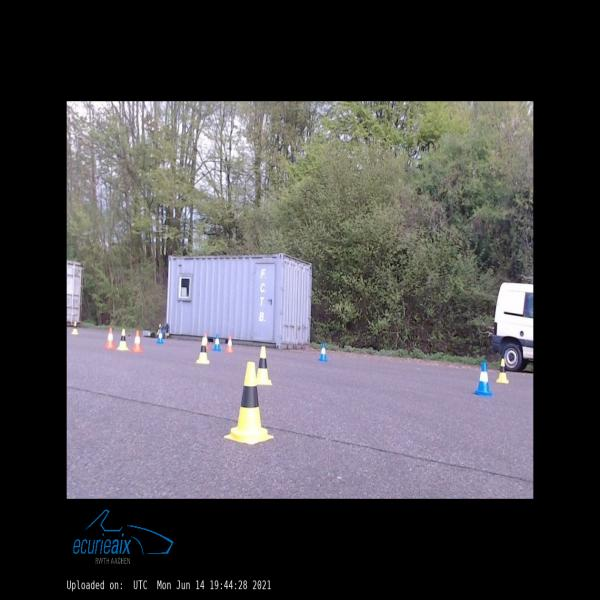blue_cone: (473, 362, 492, 396), (318, 342, 328, 362), (213, 334, 221, 351), (156, 329, 164, 343)
orange_cone: (131, 330, 143, 352), (105, 328, 115, 348), (225, 335, 234, 352), (204, 334, 209, 349)
yellow_cone: (225, 362, 273, 445), (257, 346, 272, 386), (196, 338, 210, 364), (496, 359, 508, 383), (117, 329, 129, 350), (72, 321, 78, 334)
